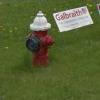Hydrant: (23, 4, 55, 78)
